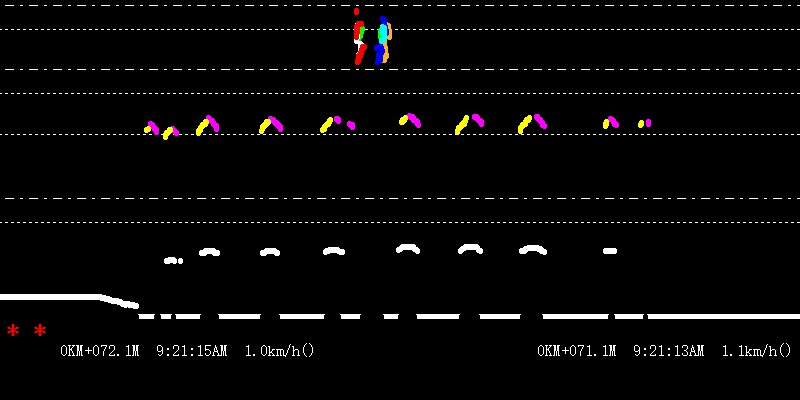J: (351, 3, 393, 66)
star: (5, 320, 20, 339), (33, 320, 48, 337)
y_p: (190, 107, 550, 274)
